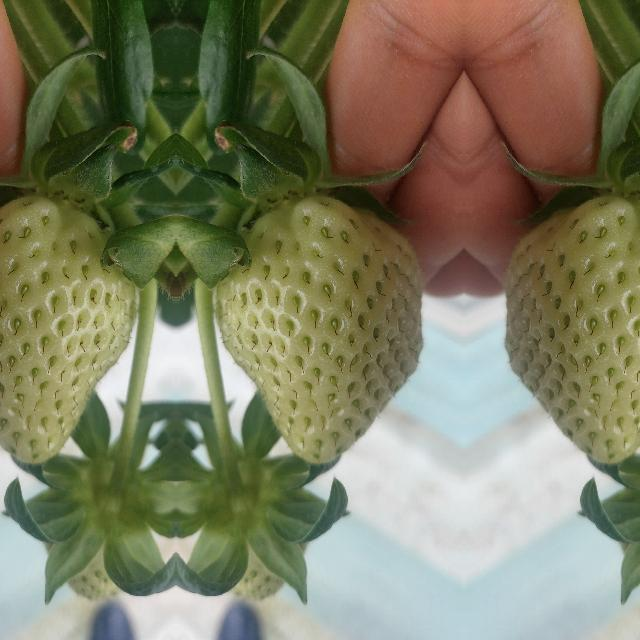Health_25: (214, 195, 422, 462), (0, 195, 136, 462), (504, 195, 640, 462)
